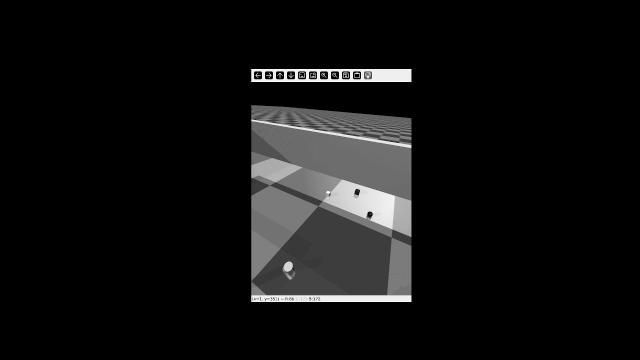cilindro: (281, 257, 296, 279)
cuadrado: (352, 185, 362, 197), (325, 188, 334, 199)
esfera: (366, 210, 374, 220)
